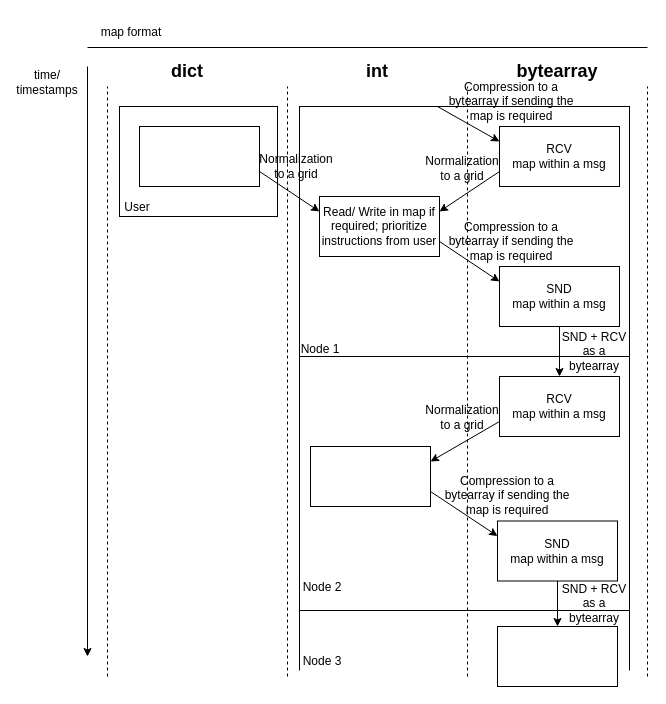
Image size: 666x704. Some labels were removed from this diagram. Here are the shapes that lost their labels. From the top down, the box of each, then its label:
(138, 126, 260, 186): Creation of the map as a dict
(310, 446, 430, 506): Read/ Write in map if required
(496, 626, 618, 686): loop continues
